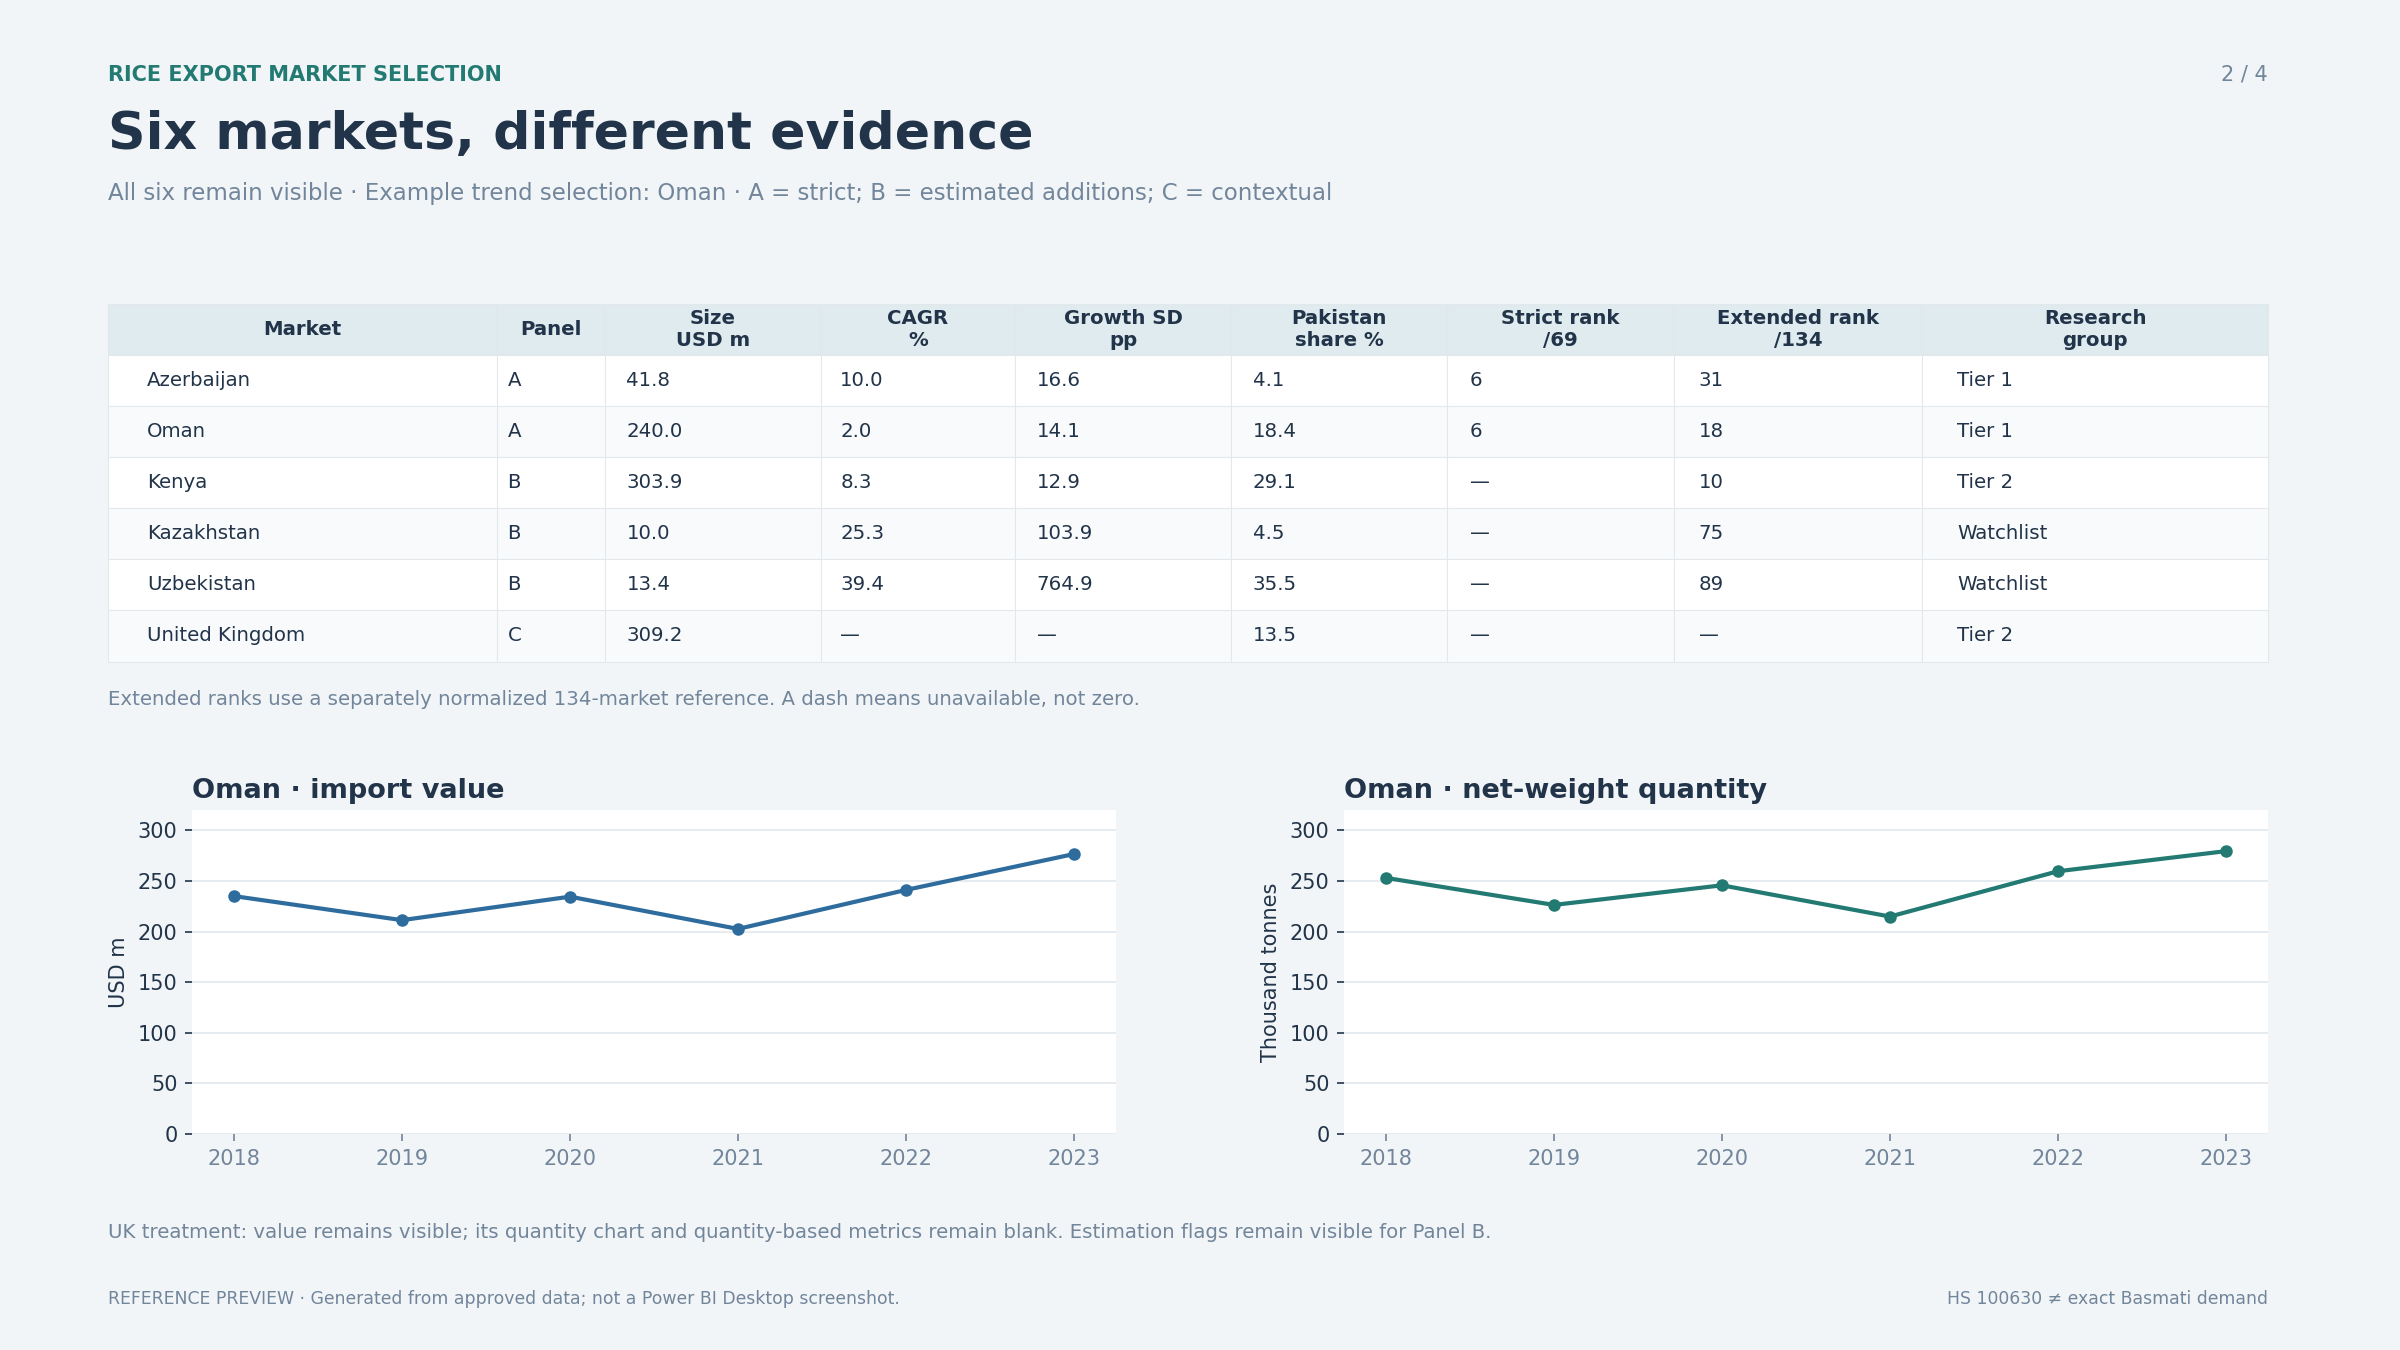

The page's visual inventory and layout, read from the dashboard file:
{"tool":"powerbi","page":{"name":"Focus market comparison","canvas":[1920,1080],"ordinal":1},"visuals":[{"type":"shape","box":[0,0,1919.3,121.4],"z":0},{"type":"slicer","fields":{"Values":["Markets.Market"]},"box":[1730.6,121.4,188.7,78.1],"z":1000},{"type":"tableEx","fields":{"Values":["Markets.Market","Markets.PanelCode","Markets.Market size USD m","Markets.Quantity CAGR","Markets.Growth variability pp","Markets.Pakistan share 2023","Markets.Strict base rank","Markets.Extended base rank","Markets.ResearchGroup"]},"box":[97.6,199.5,1650.4,312.3],"z":2000},{"type":"lineChart","title":"Import value trend","fields":{"Category":["AnnualImports.Year"],"Y":["Markets.Annual import value USD m"]},"box":[30.4,583.4,876.1,464.1],"z":3000},{"type":"lineChart","title":"Physical import quantity trend","fields":{"Category":["AnnualImports.Year"],"Y":["Markets.Annual quantity thousand t"]},"box":[1041,583.4,878.3,464.1],"z":4000},{"type":"textbox","title":"Focus market comparison","box":[30.4,0,830.6,99.8],"z":6000},{"type":"textbox","box":[26,1047.5,1800,32.5],"z":7000},{"type":"textbox","box":[30.4,145.3,559.5,99.8],"z":8000},{"type":"cardVisual","fields":{"Data":["Min(Markets.Market)"]},"box":[21.7,511.8,251.6,86.7],"z":8001},{"type":"cardVisual","fields":{"Data":["Min(Markets.ResearchGroup)"]},"box":[273.3,511.8,388.2,86.7],"z":8002},{"type":"cardVisual","fields":{"Data":["Min(Markets.Panel)"]},"box":[661.4,518.3,644.1,71.6],"z":8003}]}

Visuals, with their boxes in screenshot pixels (x1, y1, x2, y2), scaled from the page's 1920x1080 canvas onto the 2400x1350 screenshot:
shape: bbox(0, 0, 2399, 152)
slicer - Markets.Market: bbox(2163, 152, 2399, 249)
tableEx - Markets.Market x Markets.PanelCode: bbox(122, 249, 2185, 640)
"Import value trend" lineChart: bbox(38, 729, 1133, 1309)
"Physical import quantity trend" lineChart: bbox(1301, 729, 2399, 1309)
"Focus market comparison" textbox: bbox(38, 0, 1076, 125)
textbox: bbox(32, 1309, 2282, 1349)
textbox: bbox(38, 182, 737, 306)
cardVisual - Min(Markets.Market): bbox(27, 640, 342, 748)
cardVisual - Min(Markets.ResearchGroup): bbox(342, 640, 827, 748)
cardVisual - Min(Markets.Panel): bbox(827, 648, 1632, 737)
